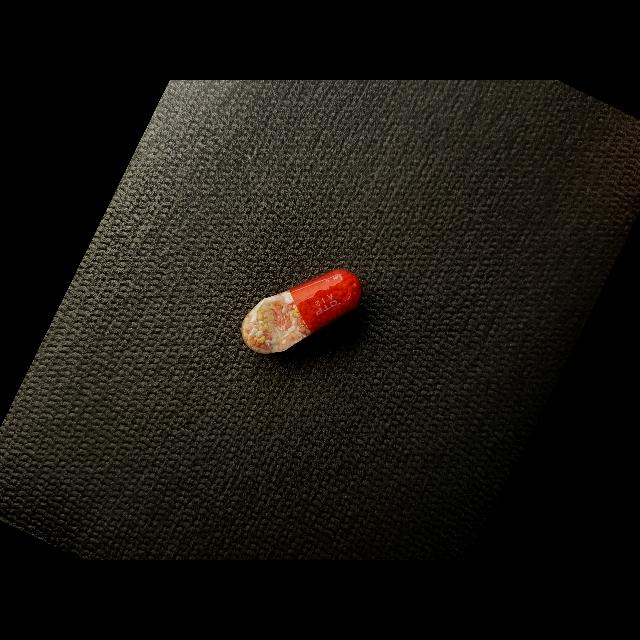Defective Capsule: (241, 269, 362, 354)
